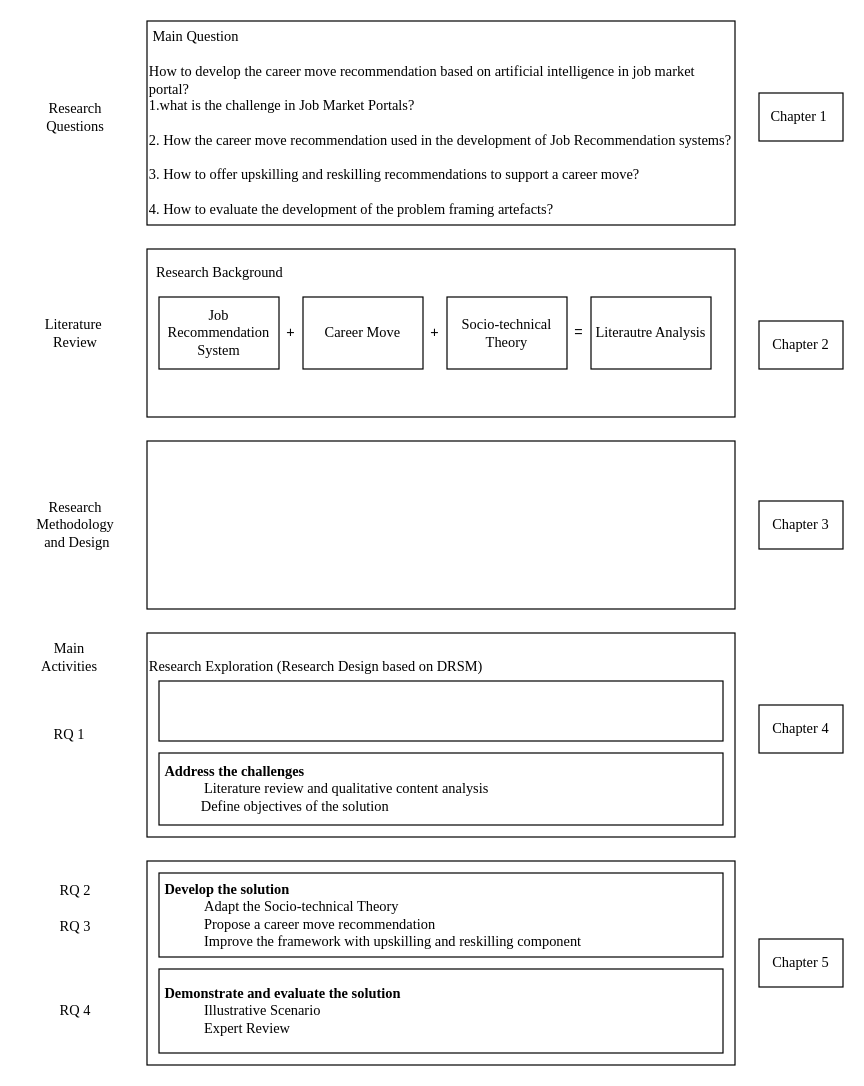
The diagram is 864 pixels wide and 1086 high, and some of its shapes have lost their labels. The shapes that lost their labels are listed below. From the top down, each one's centre as x and y in pixels, then its label:
(440,524): Design Science Research
(440,710): Identify the challenges Interview and questionnaire to understand the challenges
